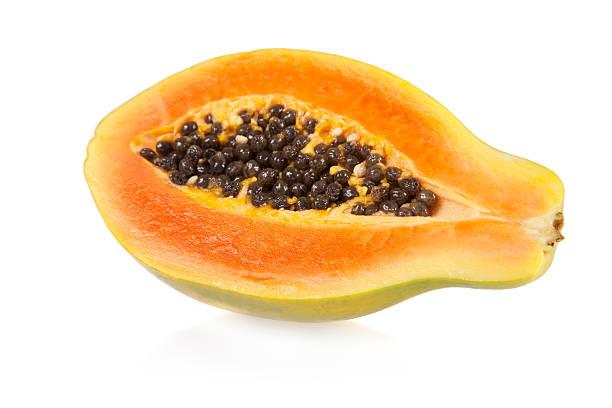papaya: (64, 42, 574, 341)
